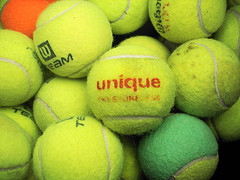tennis ball: (86, 45, 176, 135), (32, 1, 113, 78), (165, 37, 240, 118), (33, 116, 125, 180), (136, 112, 221, 180), (148, 1, 228, 42), (1, 28, 40, 107), (31, 77, 86, 131), (1, 113, 29, 180), (92, 1, 149, 33)
